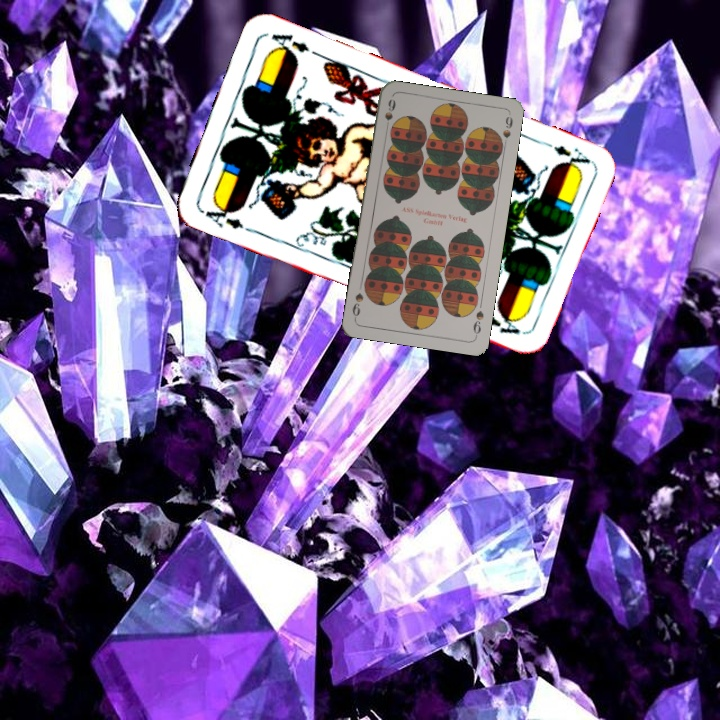EA: (536, 136, 593, 173), (197, 197, 246, 232)
S9: (381, 95, 398, 135), (469, 307, 486, 339)
